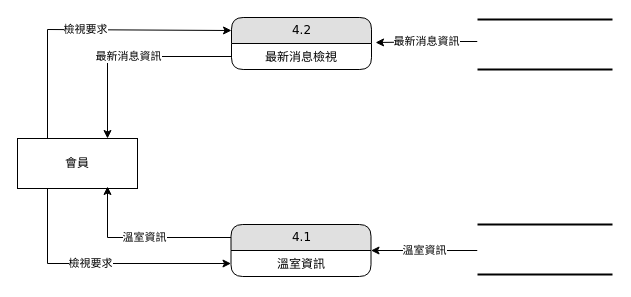
This 631x297 diagram has some shape labels left out. The shapes that lost their labels are listed below. From the top down, each one's box as (x1, y1, x2, y2) in pixels, then its label:
(476, 18, 613, 70): 最新消息資料表
(476, 223, 613, 275): 溫室資訊資料表
